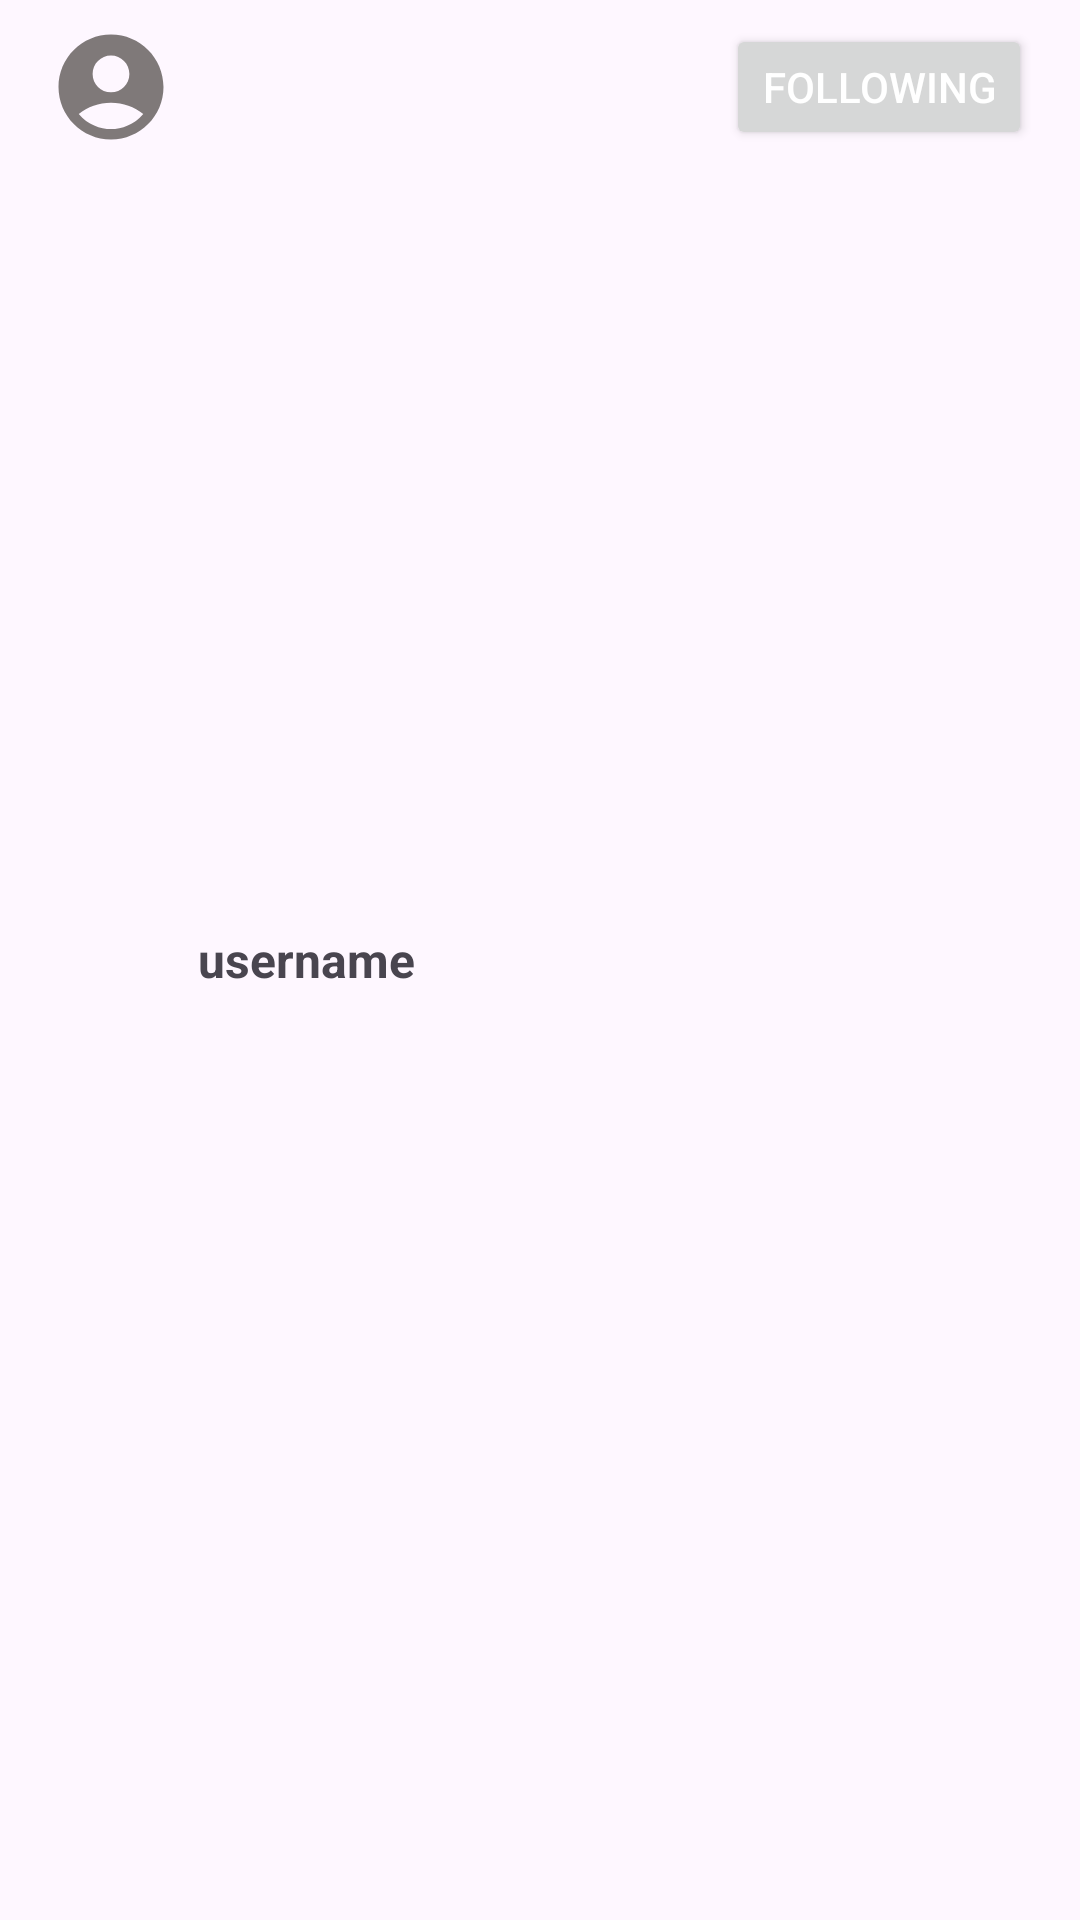

Screen size 1080w x 1920h. Icon name, then its box in pixels as {"x1": x1, "y1": y1, "x2": x2, "y2": y2}:
account circle: {"x1": 58, "y1": 34, "x2": 164, "y2": 140}
